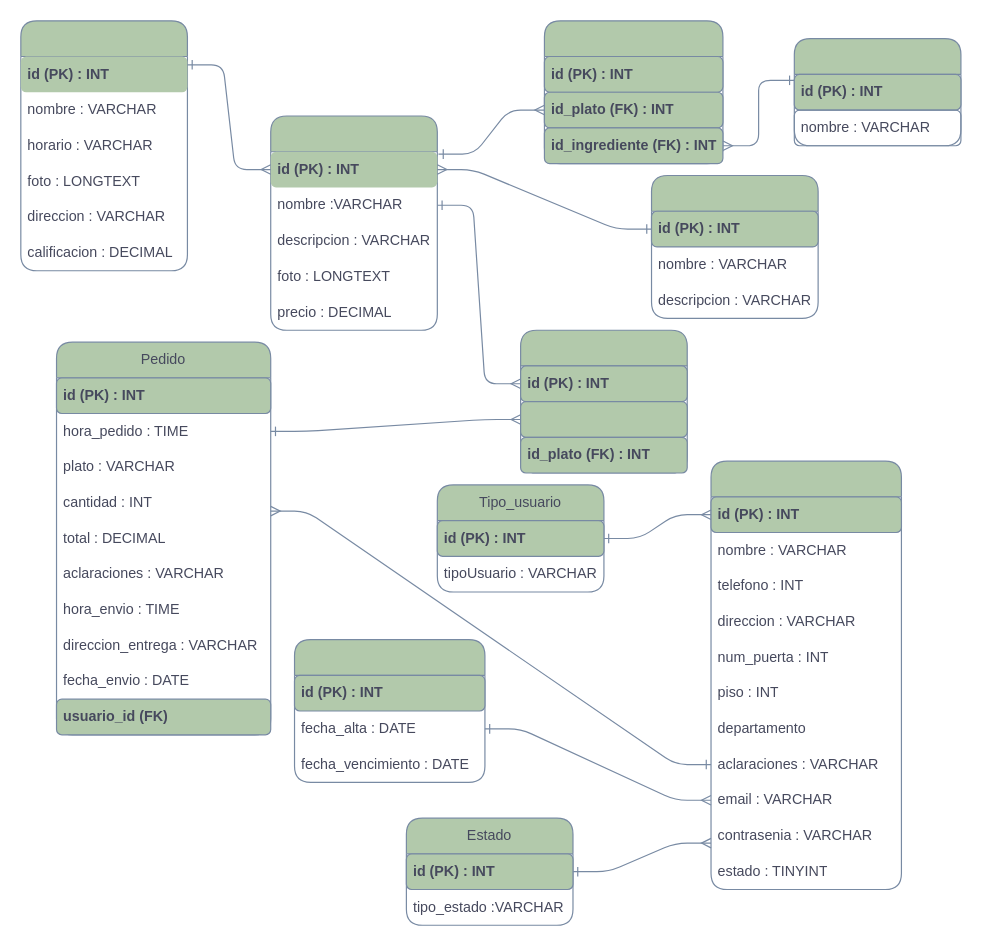
Image size: 982x946. Some labels were removed from this diagram. The shapes that lost their labels are listed below. From the top down, each one's box as (x1, y1, x2, y2) in pixels, then its label:
(543, 20, 723, 164): plato_ingrediente
(793, 37, 961, 146): Ingredientes
(20, 20, 187, 271): Restaurante
(270, 115, 437, 330): Plato
(650, 174, 818, 318): Categoria
(519, 329, 687, 473): plato_pedido
(519, 400, 687, 437): id_pedido (FK) : INT
(710, 460, 901, 890): Usuario
(293, 638, 485, 782): Membresia
